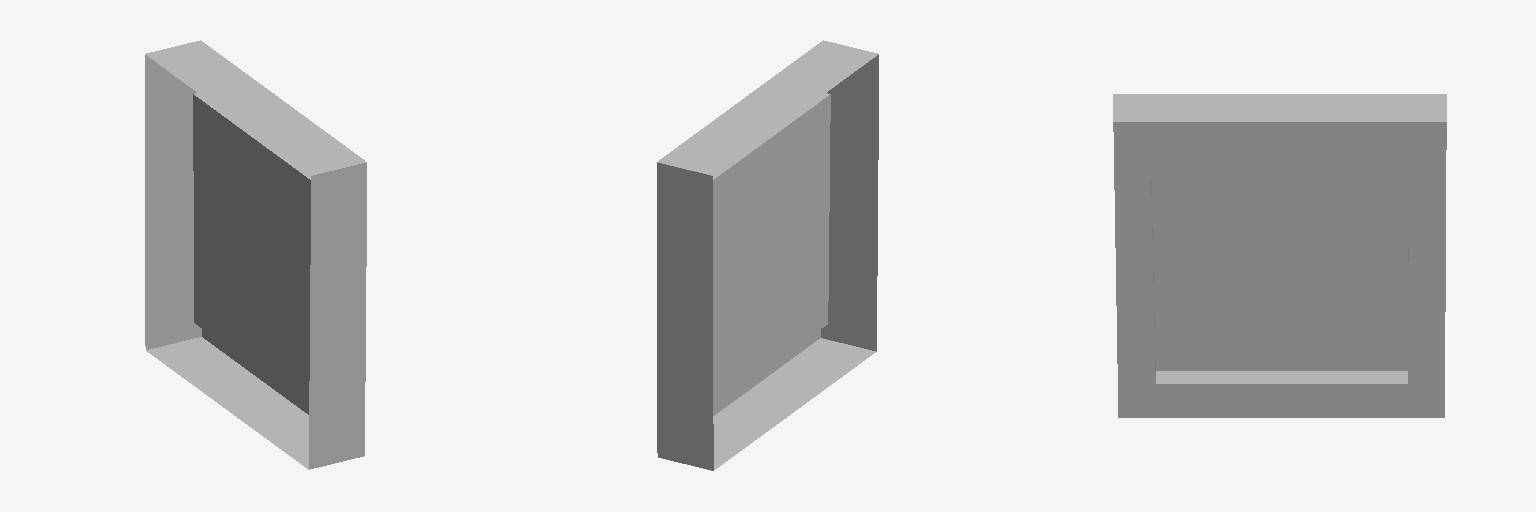
File: house_window.obj
3 renders of one model, left to right at view 1: azimuth 30°, elevation 25°; view 2: azimuth 150°, elevation 25°; view 3: azimuth 270°, elevation 25°, orthographic.
Visible parts, largest first — view 1: Cube_Cube.002; view 2: Cube_Cube.002; view 3: Cube_Cube.002.
Part boxes in pixels (bbox=[...]): Cube_Cube.002: bbox=[145, 40, 366, 469]; Cube_Cube.002: bbox=[657, 40, 878, 470]; Cube_Cube.002: bbox=[1113, 94, 1446, 417].
Size of the model in its own units: 0.0971 by 0.4893 by 0.4997.